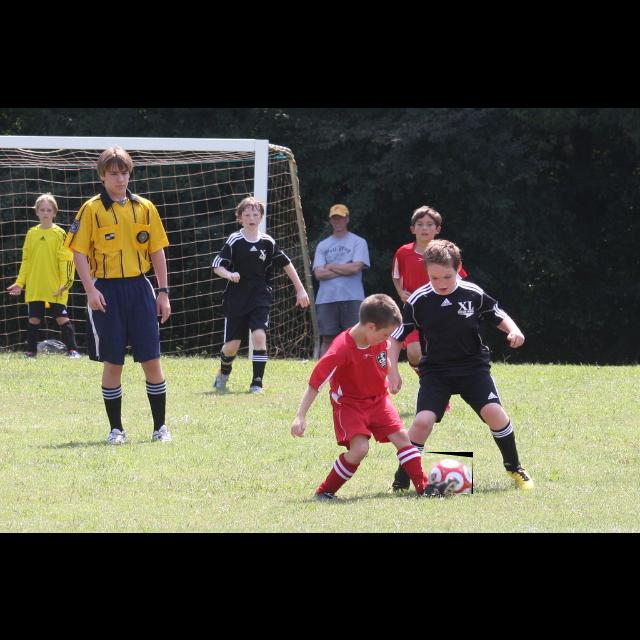Football: (423, 452, 473, 494)
